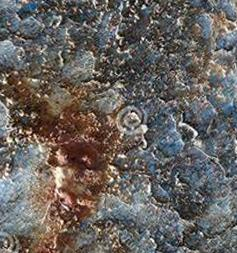rust: (18, 88, 107, 249)
